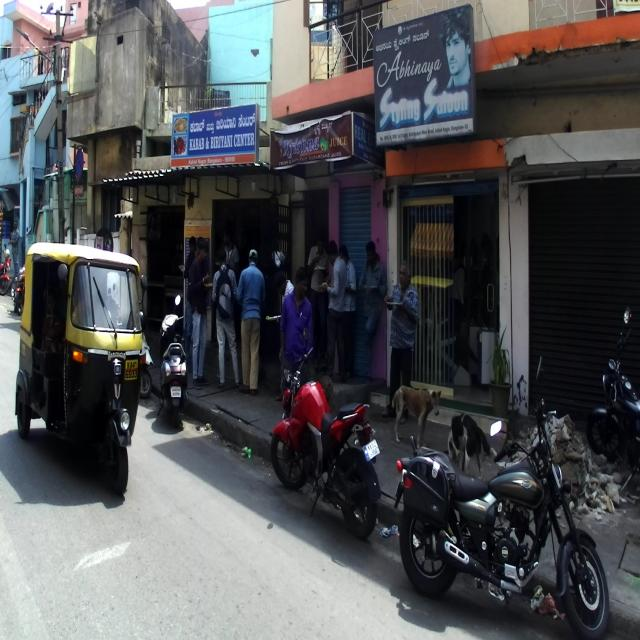autorickshaw: (14, 240, 147, 493)
motorcycle_Yamaha: (269, 324, 382, 539)
motorcycle_bajaj: (393, 355, 612, 639), (585, 302, 639, 462)
scooter: (154, 294, 190, 431)
